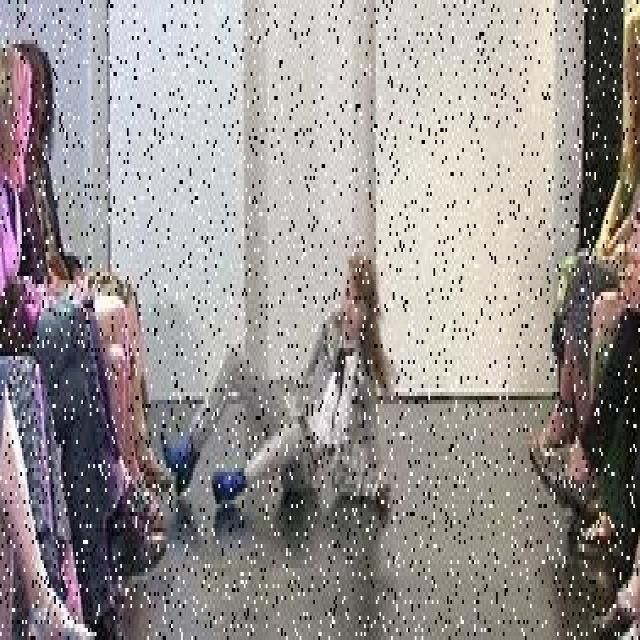fall: (179, 248, 398, 524)
